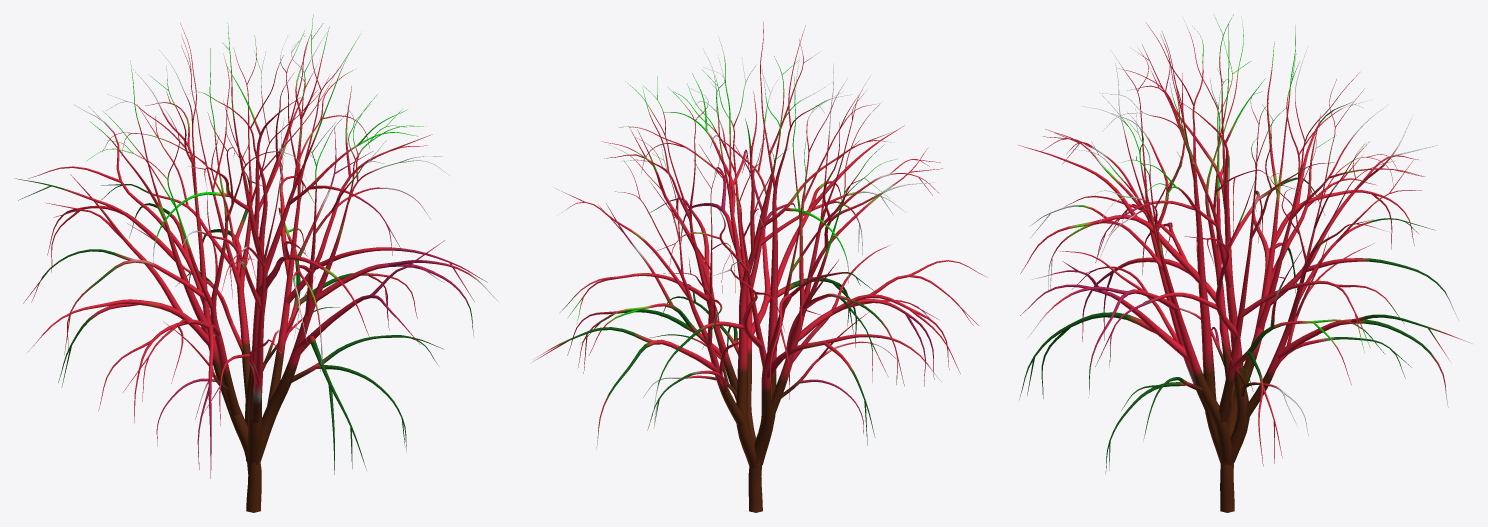
The model's file is tree.glb.
3 views of the same model, side by side, from view 1: azimuth 30°, elevation 25°; view 2: azimuth 150°, elevation 25°; view 3: azimuth 270°, elevation 25° (orthographic). The views are drawn at different scales.
Visible parts, largest first — view 1: tree; view 2: tree; view 3: tree.
Boxes of the visible parts, bbox=[...] form: tree: bbox=[14, 14, 501, 512]; tree: bbox=[530, 22, 986, 512]; tree: bbox=[1018, 14, 1472, 512].
Bounding box in the file's own units: 10.64 × 12.77 × 10.76.
